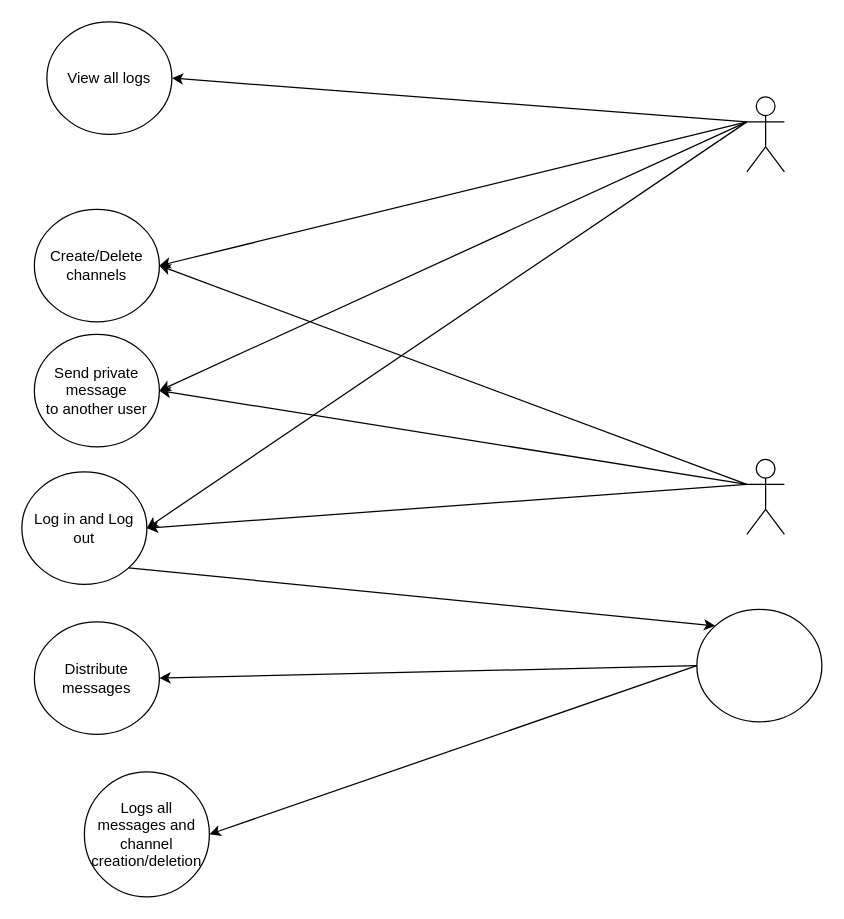
Some shapes in this 844 by 919 pixel diagram are drawn without their labels. The centre of each missing label's shape, as x and y in pixels:
"IT User" belongs at [765,134].
"Server" belongs at [759,665].
"User" belongs at [765,496].
